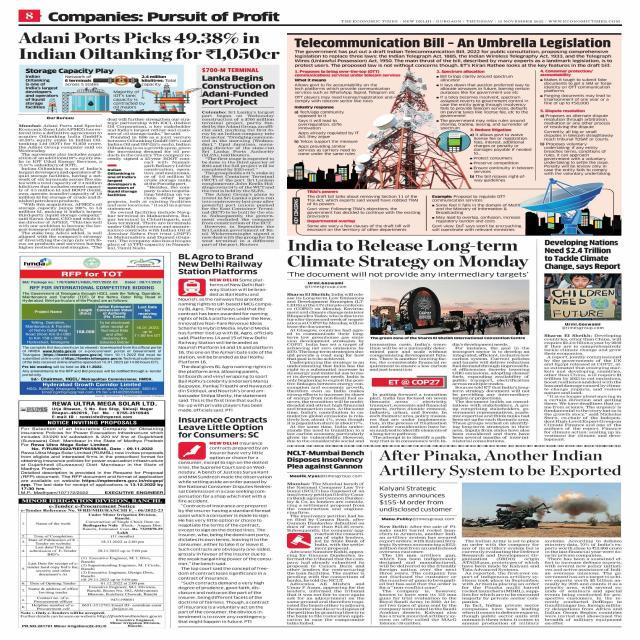Article: (288, 36, 625, 238), (14, 29, 282, 251), (284, 237, 532, 444), (376, 447, 626, 626), (175, 415, 276, 626), (541, 237, 625, 443), (175, 252, 278, 414), (284, 448, 369, 628), (198, 64, 277, 250)
Body: (178, 441, 274, 624), (178, 278, 274, 412), (286, 293, 366, 443), (287, 482, 366, 625), (18, 124, 102, 249), (202, 110, 276, 247), (544, 334, 622, 442), (378, 524, 458, 625), (452, 342, 531, 443), (460, 540, 540, 626), (544, 540, 624, 624), (294, 50, 612, 68), (436, 74, 530, 130), (540, 114, 612, 176), (107, 200, 192, 250), (368, 392, 448, 442), (106, 118, 192, 160), (430, 194, 524, 232), (470, 132, 534, 182), (294, 110, 358, 156), (306, 194, 424, 218), (368, 343, 449, 371), (294, 83, 396, 103), (540, 78, 612, 106), (144, 161, 192, 200), (306, 224, 410, 232)
Date: (466, 20, 545, 24)
Heading: (18, 31, 280, 62), (286, 238, 529, 270), (378, 449, 622, 479), (294, 37, 612, 49), (544, 240, 622, 270), (201, 75, 276, 106), (178, 417, 270, 438), (178, 253, 264, 275), (286, 450, 364, 470)
Highlights: (378, 486, 452, 512), (287, 271, 530, 278), (25, 74, 60, 108), (106, 168, 138, 196), (294, 70, 402, 77), (112, 89, 146, 109), (140, 75, 178, 86), (540, 69, 592, 77), (64, 75, 100, 86), (436, 70, 486, 74), (538, 109, 586, 113), (307, 220, 358, 223), (307, 190, 339, 193)
Image: (20, 256, 164, 394), (18, 498, 166, 628), (19, 401, 165, 495), (462, 482, 620, 537), (371, 280, 529, 335), (537, 177, 621, 236), (402, 68, 434, 188), (545, 273, 621, 321), (287, 158, 361, 188), (147, 86, 195, 112), (64, 87, 110, 112), (438, 130, 468, 152)
Name: (48, 10, 280, 24), (340, 20, 398, 23)
